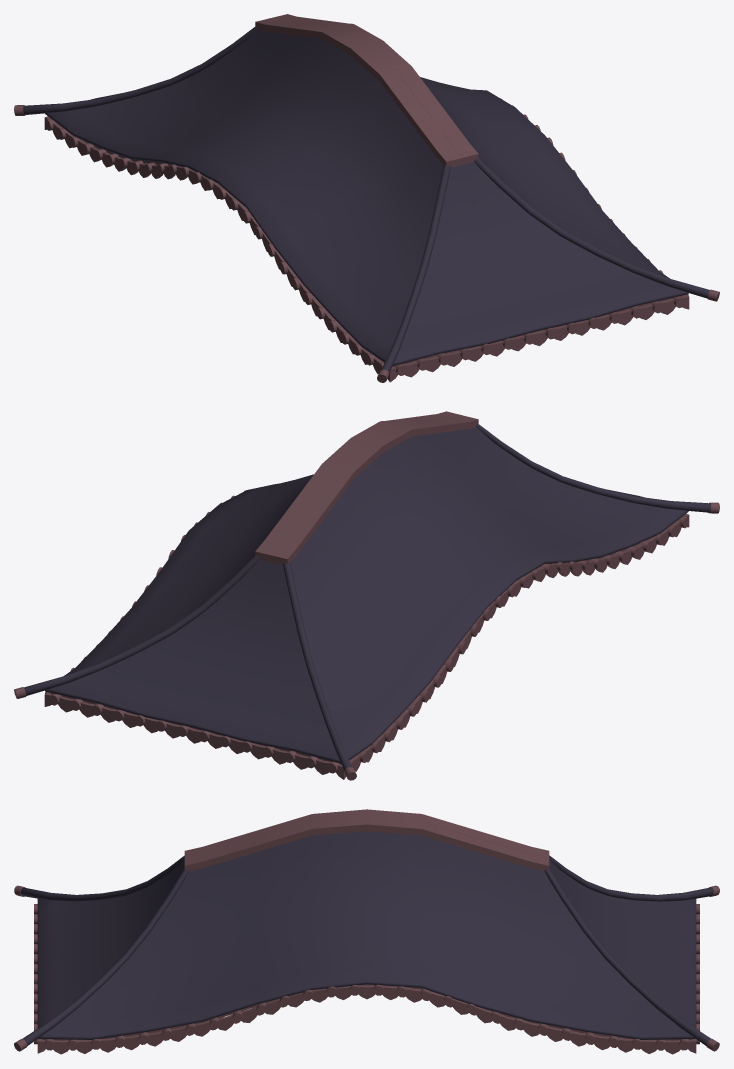
The model's file is roof_canopy.fbx.
The picture shows the model from 3 angles, top to bottom: view 1: azimuth 30°, elevation 25°; view 2: azimuth 150°, elevation 25°; view 3: azimuth 270°, elevation 25°; orthographic projection. The views are drawn at different scales.
Visible parts, largest first — view 1: roof_canopy; view 2: roof_canopy; view 3: roof_canopy.
Boxes of the visible parts, x1=… form: roof_canopy: x1=14, y1=14, x2=719, y2=382; roof_canopy: x1=14, y1=411, x2=719, y2=780; roof_canopy: x1=14, y1=809, x2=719, y2=1054.
Bounding box in the file's own units: 917 × 450 × 1715.
